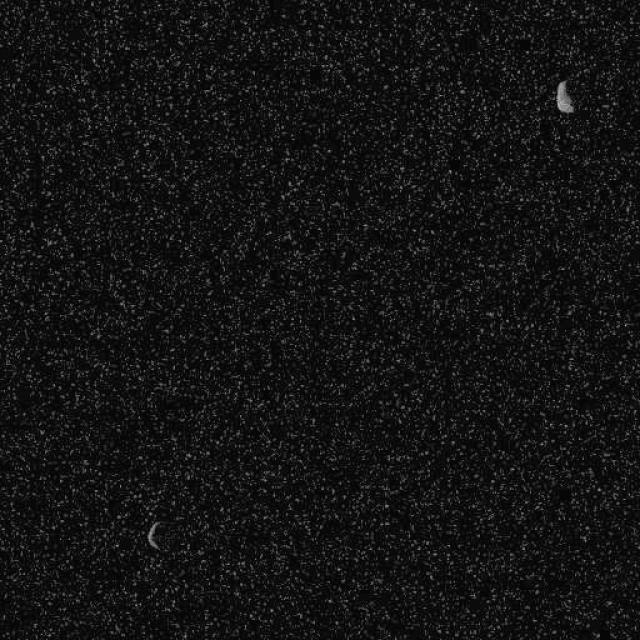D2: (554, 78, 575, 114), (146, 520, 162, 550)
